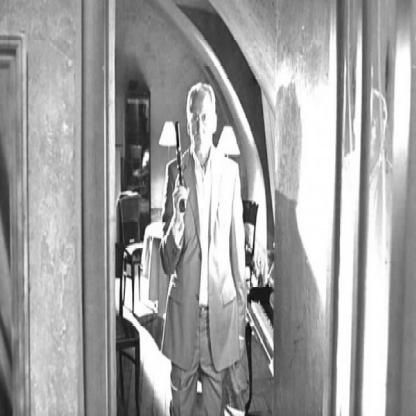Gun: (172, 117, 186, 211)
